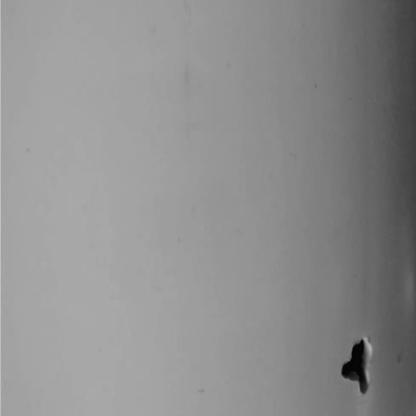kongdong: (332, 331, 380, 407)
